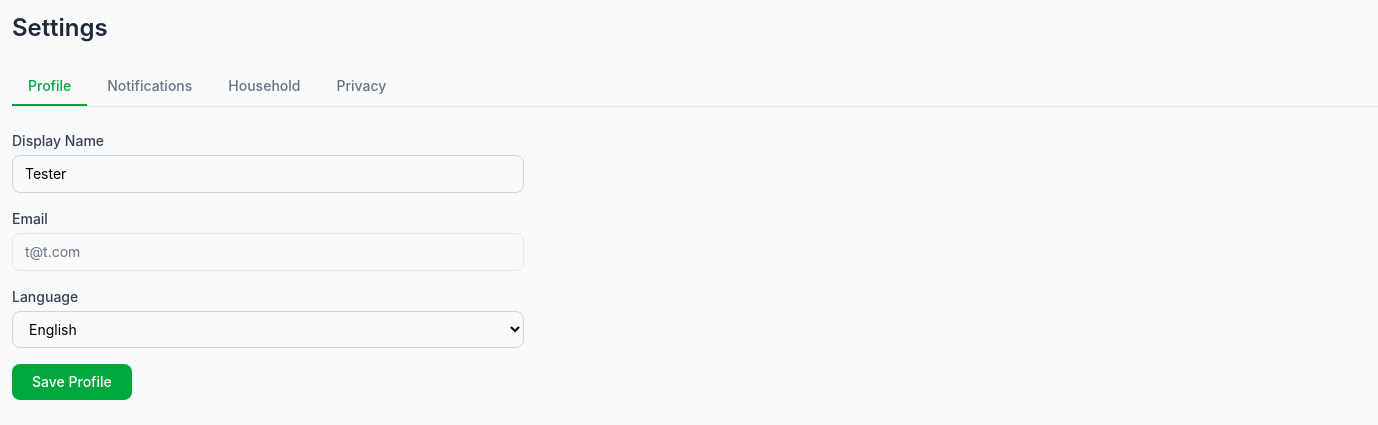
it: Settings — Household tab › displays member list with names and roles
The width and height of the screenshot is (1378, 425).
Click the tab "Household": x=264, y=87 [212,68,316,106]
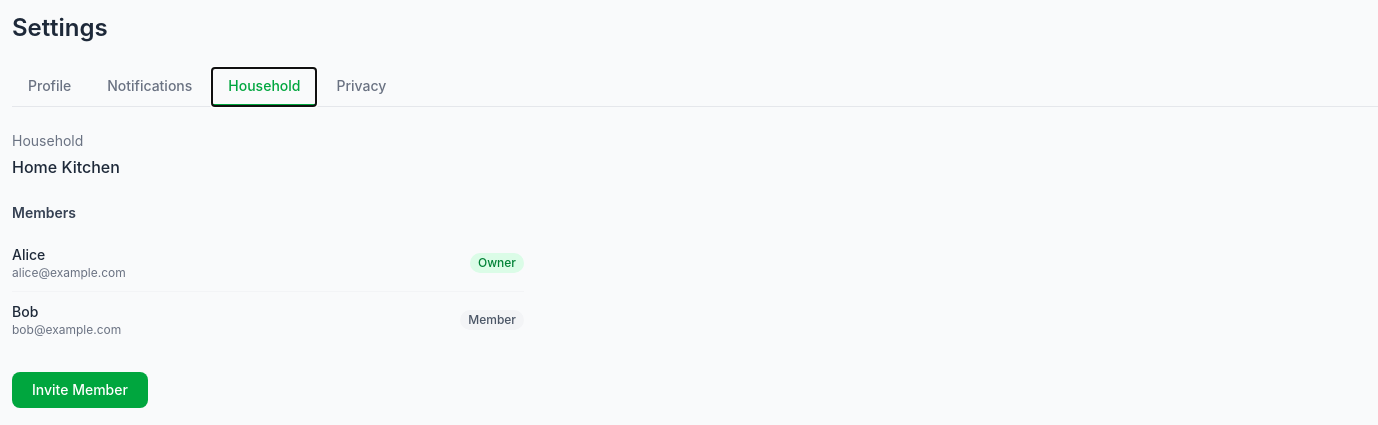
Expected: the text "Alice" is shown, [12,246,45,263]
Expected: the text "Bob" is shown, [12,303,38,320]
Expected: the text "Owner" is shown, [470,253,524,273]
